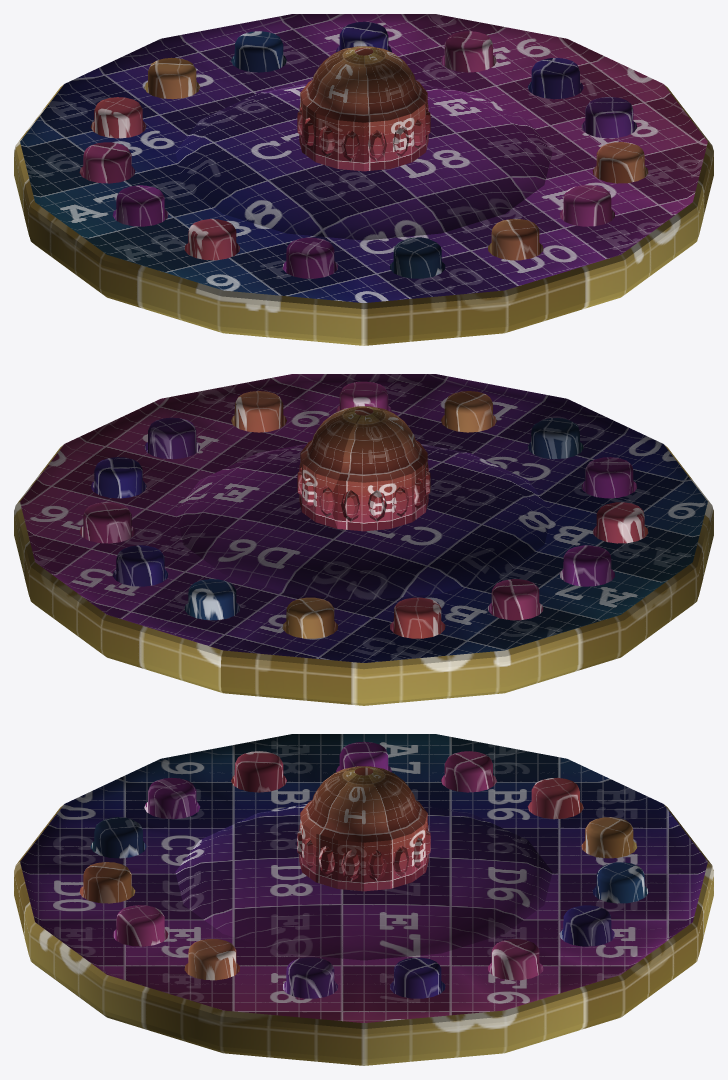
File: ufo06.FBX
3 views of the same model, one above another, from view 1: azimuth 30°, elevation 25°; view 2: azimuth 150°, elevation 25°; view 3: azimuth 270°, elevation 25° (orthographic).
Parts seen in each view (by area): view 1: Cylinder001; view 2: Cylinder001; view 3: Cylinder001.
Part boxes in pixels (box(x1,y1,x2,y2)): Cylinder001: box(14, 14, 713, 345); Cylinder001: box(14, 374, 713, 705); Cylinder001: box(14, 734, 713, 1065).
Bounding box in the file's own units: 138 × 47.99 × 139.
